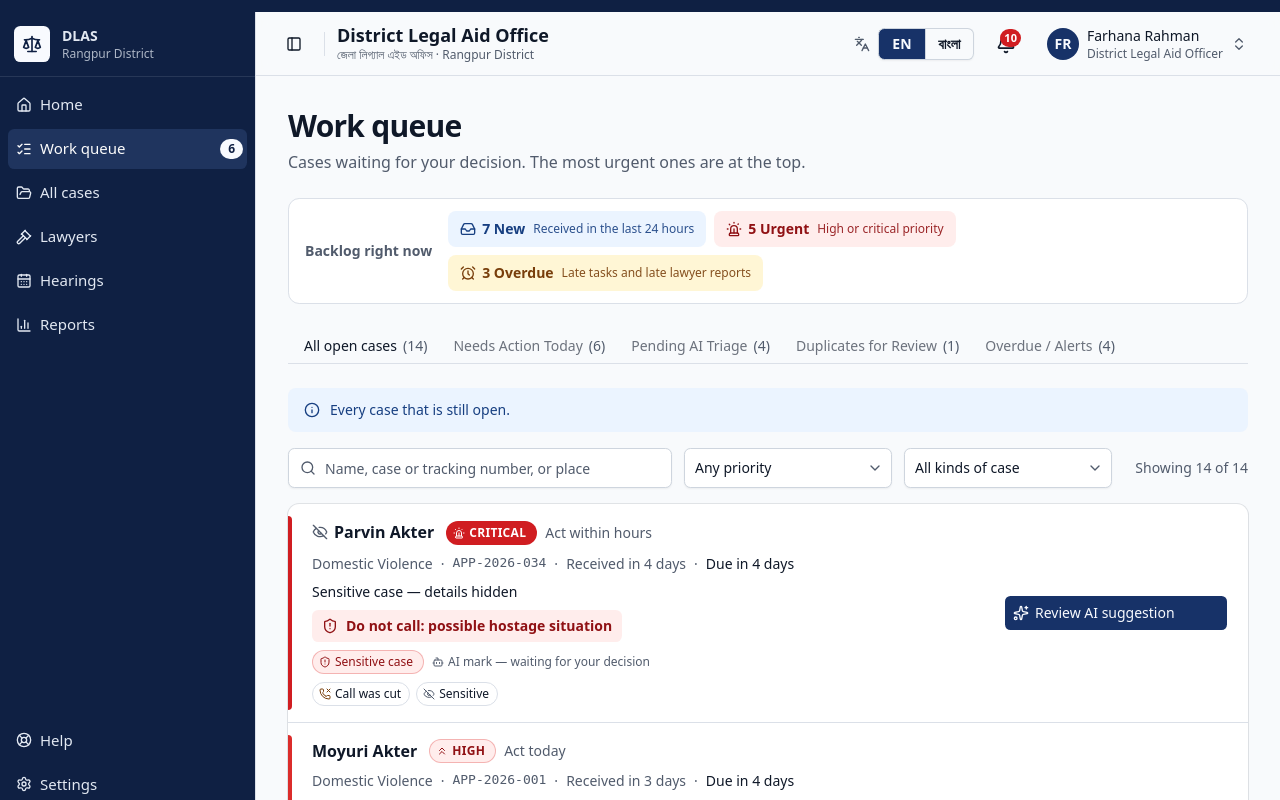
Scenario: language toggle › switches the whole UI and <html lang> to Bengali
This screenshot has width=1280, height=800.
Expected: the heading "Work queue" is shown, [288, 105, 461, 146]
Click the button "বাংলা": (950,44) [926, 28, 974, 60]
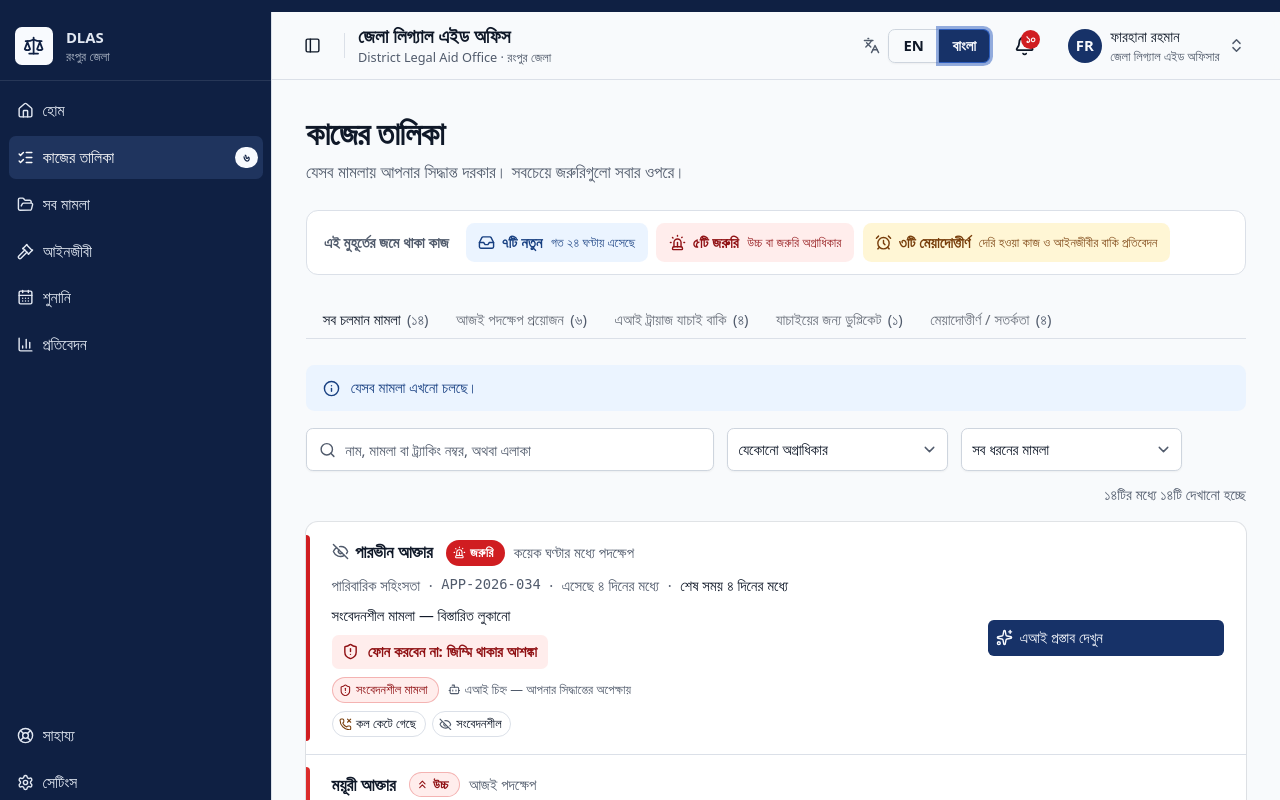
Expected: the heading "কাজের তালিকা" is shown, [306, 111, 444, 154]
Expected: the button "ময়ূরী আক্তার" is shown, [332, 772, 396, 797]
